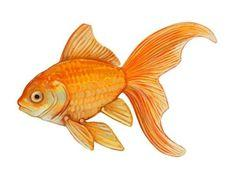goldfish: (12, 42, 183, 147)
